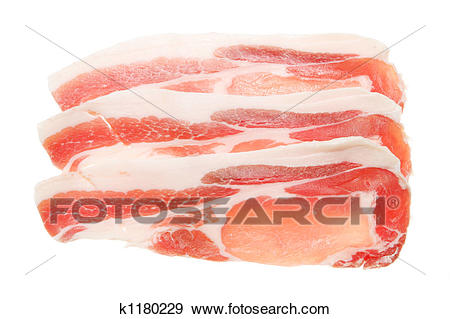bacon: (26, 39, 414, 284)
